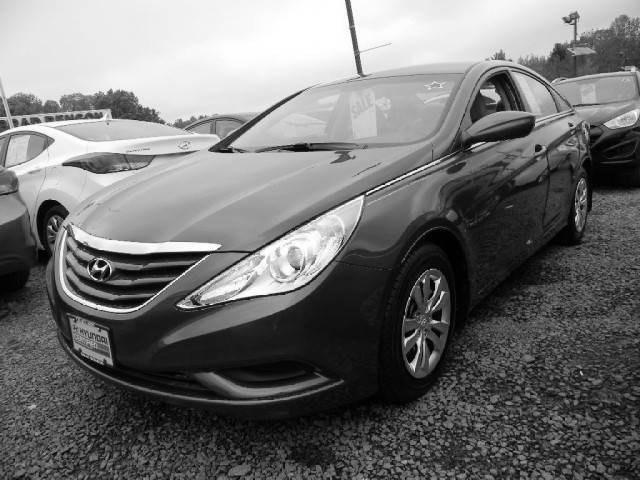car: (44, 62, 589, 415)
